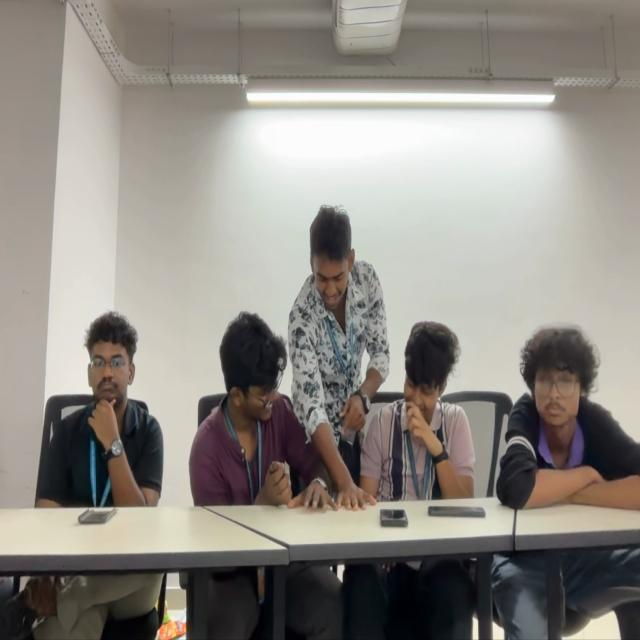Isolated: (498, 320, 640, 507), (37, 298, 162, 508)
socializing: (187, 202, 475, 500)
